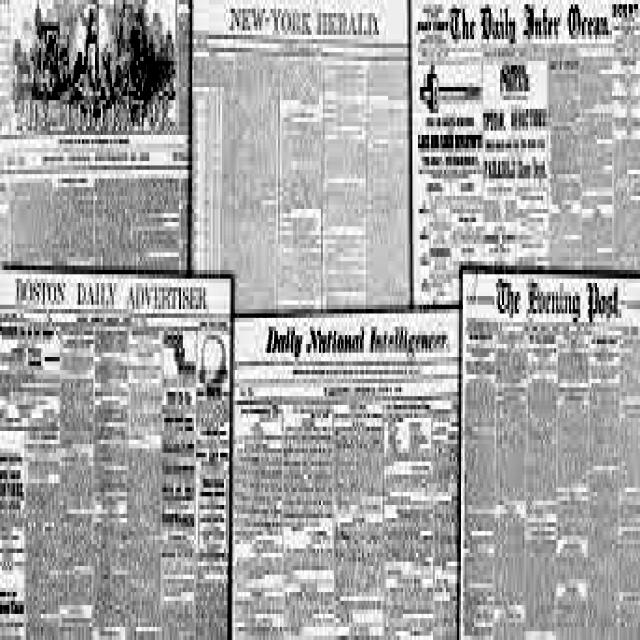Paper: (0, 263, 236, 640), (228, 308, 461, 640), (409, 0, 640, 313), (189, 0, 415, 319), (459, 263, 640, 636), (0, 0, 193, 286)
